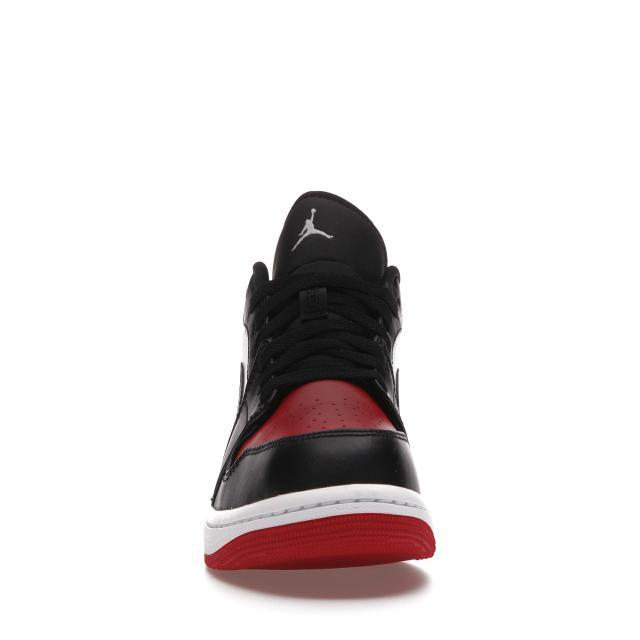J1_InsoleChar: (201, 188, 437, 573)
J1_ShoeLogo: (289, 206, 334, 252), (296, 285, 329, 320)
J1_StitchPattern: (241, 269, 403, 412), (201, 483, 436, 560), (204, 492, 432, 531), (253, 324, 387, 378), (229, 424, 410, 462)
